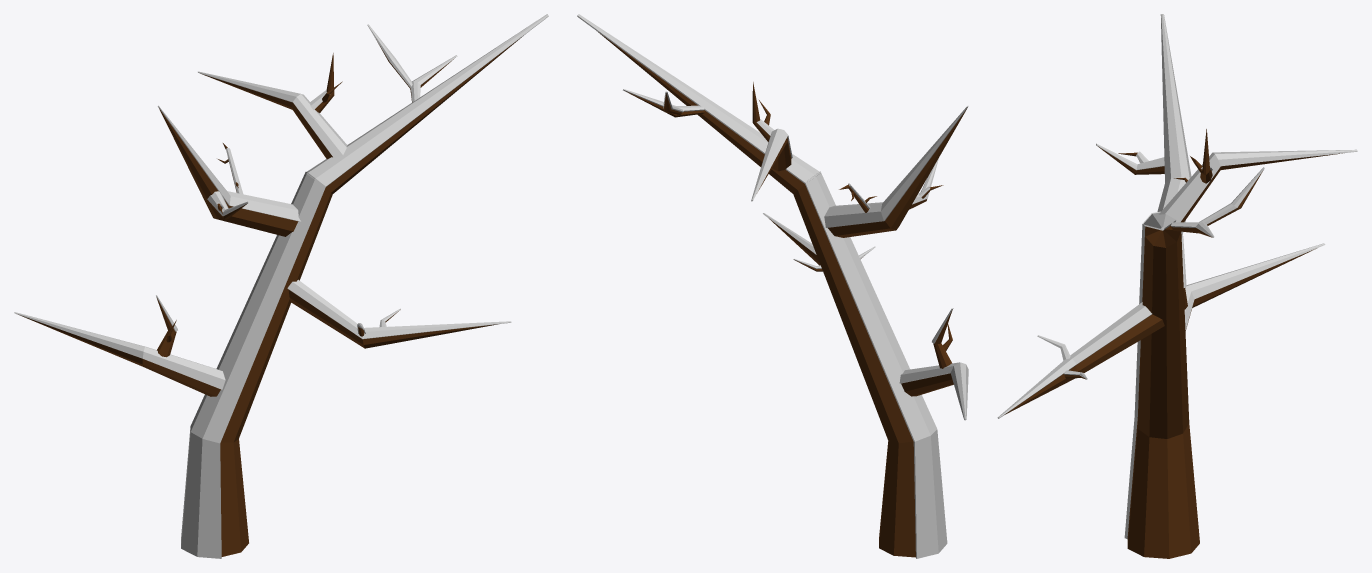
File: Tree_02.fbx
3 renders of one model, left to right at view 1: azimuth 30°, elevation 25°; view 2: azimuth 150°, elevation 25°; view 3: azimuth 270°, elevation 25°, orthographic. The views are drawn at different scales.
Visible parts, largest first — view 1: Tree_02; view 2: Tree_02; view 3: Tree_02.
Part boxes in pixels (<box>): Tree_02: <box>14,14,548,558</box>; Tree_02: <box>577,14,968,558</box>; Tree_02: <box>997,14,1357,558</box>.
Bounding box in the file's own units: 666 × 624 × 407.
